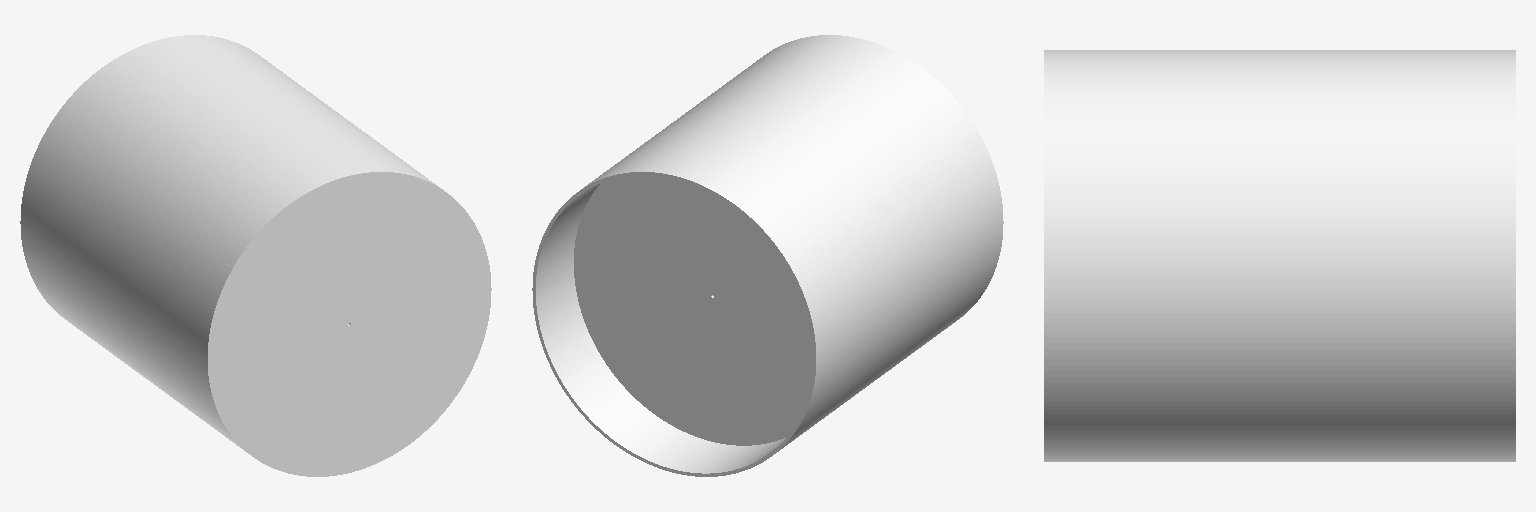
robot.urdf — cube.urdf:
<?xml version="0.0" ?>
<robot name="cube.urdf">
  <link name="baseLink">
    <contact>
      <lateral_friction value="0.3"/>
      <stiffness value="30000.0"/>
      <inertia_scaling value="3.0"/>
    </contact>
    <inertial>
      <origin rpy="0 0 0" xyz="0 0 0"/>
       <mass value=".1"/>
       <inertia ixx="1" ixy="0" ixz="0" iyy="1" iyz="0" izz="1"/>
    </inertial>
    <visual>
      <origin rpy="0 0 0" xyz="0 0 0"/>
      <geometry>
			<mesh filename="wbin.obj" scale=".001 .001 .001"/>
      </geometry>
       <material name="white">
        <color rgba="1 1 1 1"/>
      </material>
    </visual>
    <collision>
      <origin rpy="0 0 0" xyz="0 0 0"/>
      <geometry>
	 	<mesh filename="wbin_hcd.obj" scale=".001 .001 .001"/>
      </geometry>
    </collision>
  </link>
</robot>

--- Render facts (derived) ---
Views: 3 orthographic renders of the robot side by side, from view 1: azimuth 30°, elevation 25°; view 2: azimuth 150°, elevation 25°; view 3: azimuth 270°, elevation 25°.
Model cube.urdf with 1 links and 0 joints (none), rooted at baseLink, posed all joints at 0.
Links seen in each view (by area): view 1: baseLink; view 2: baseLink; view 3: baseLink.
Boxes of the visible links, x1=… form: baseLink: x1=20, y1=35, x2=491, y2=476; baseLink: x1=532, y1=35, x2=1003, y2=476; baseLink: x1=1044, y1=50, x2=1515, y2=461.
Bounding box of the posed robot: 0.22 × 0.251 × 0.22 m (x, y, z).
Meshes: 1 distinct files referenced, 1 mesh visuals loaded (1 OBJ).